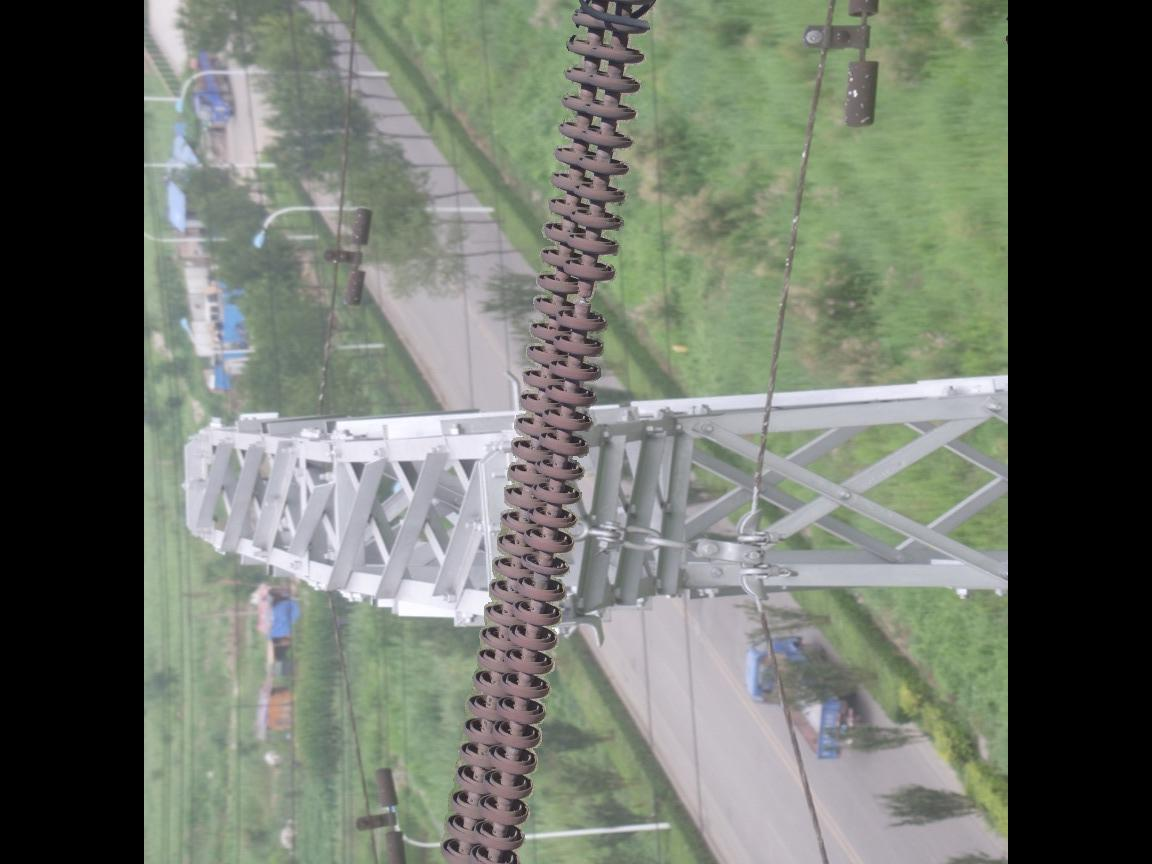insulator: (433, 1, 653, 864)
insulator_stringdrop: (553, 257, 618, 339)
